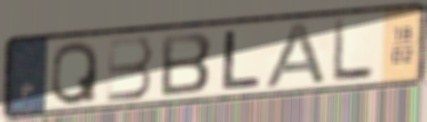A: (261, 21, 331, 91)
B: (159, 30, 215, 98), (104, 33, 155, 104)
L: (330, 17, 376, 85), (218, 28, 264, 91)
Q: (49, 38, 100, 107)
